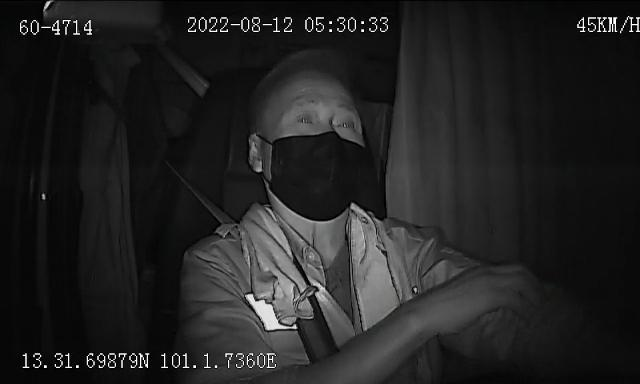SafeDriving: (332, 109, 359, 134)
Seatbelt: (191, 179, 233, 223)
